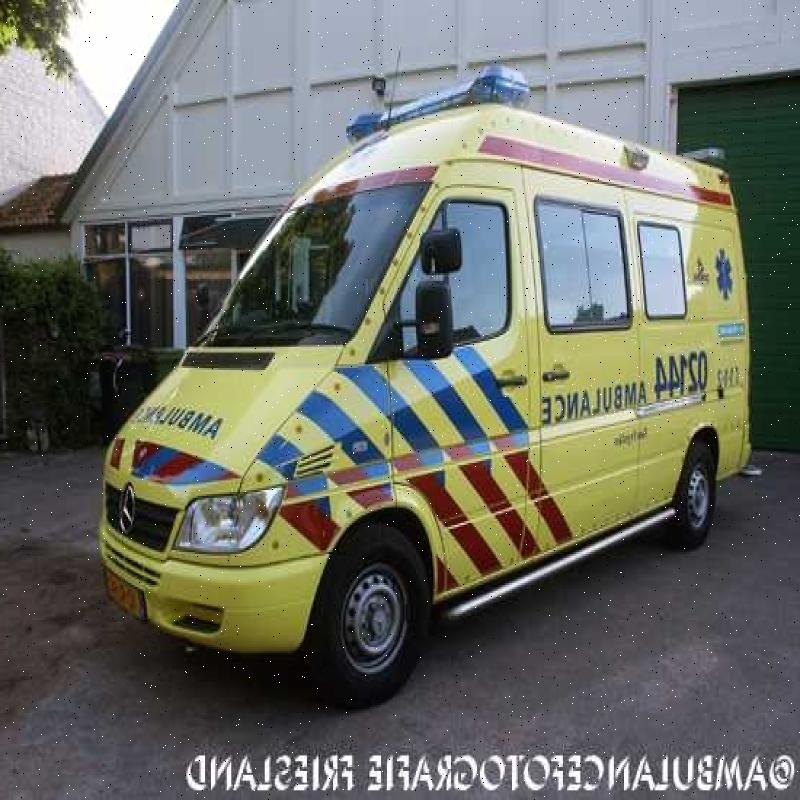AmbulanceSiren: (337, 52, 534, 152)
